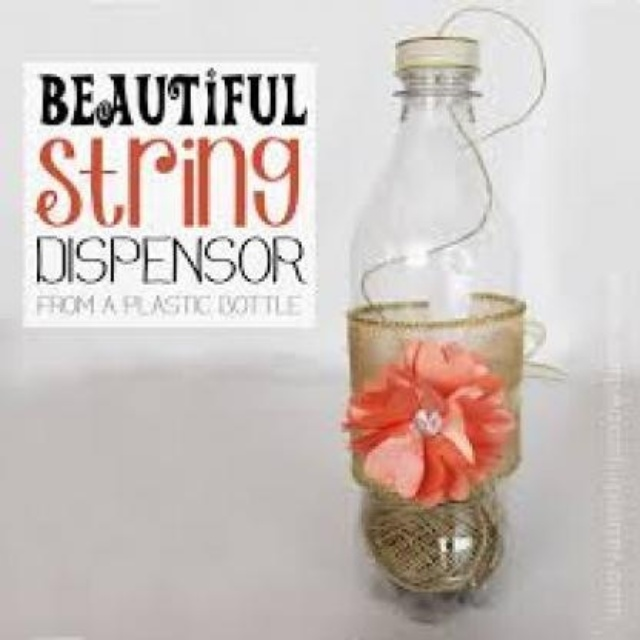trash: (346, 31, 525, 591)
